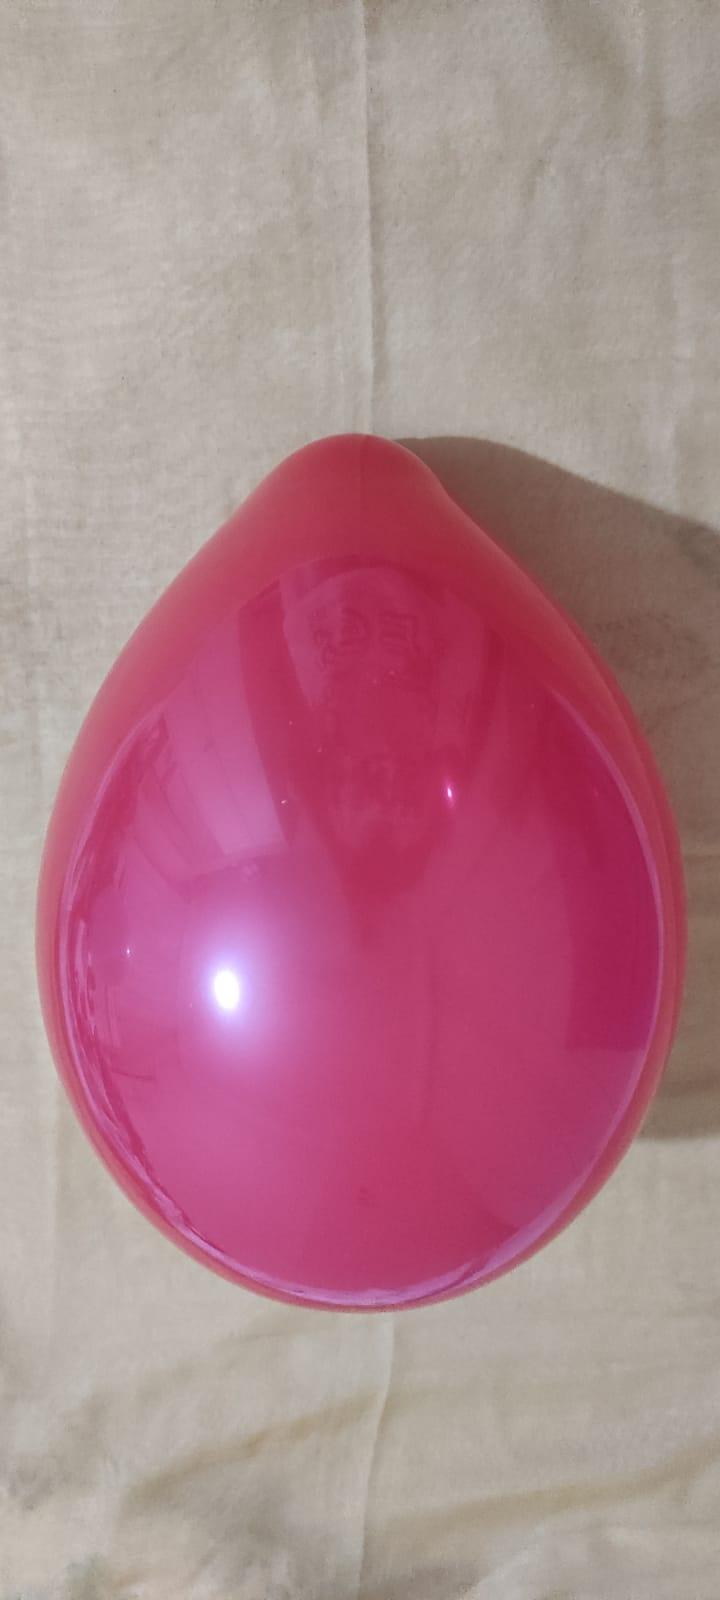red: (38, 431, 688, 1314)
